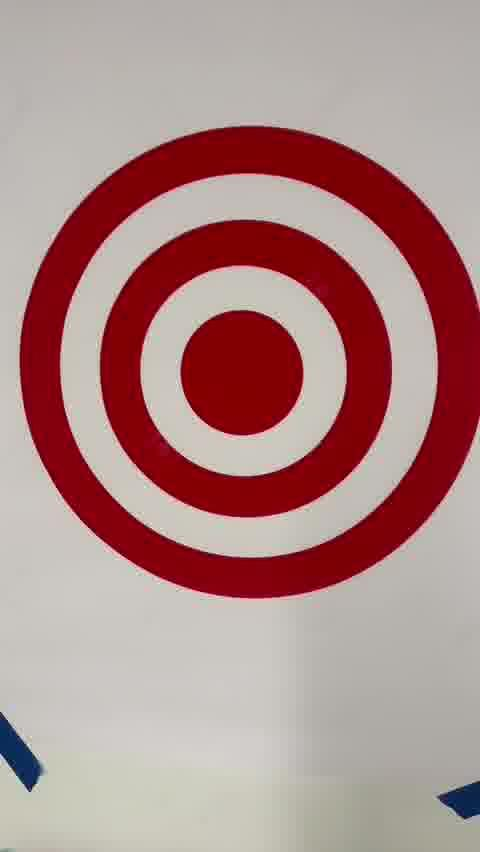target_red: (19, 127, 480, 600)
